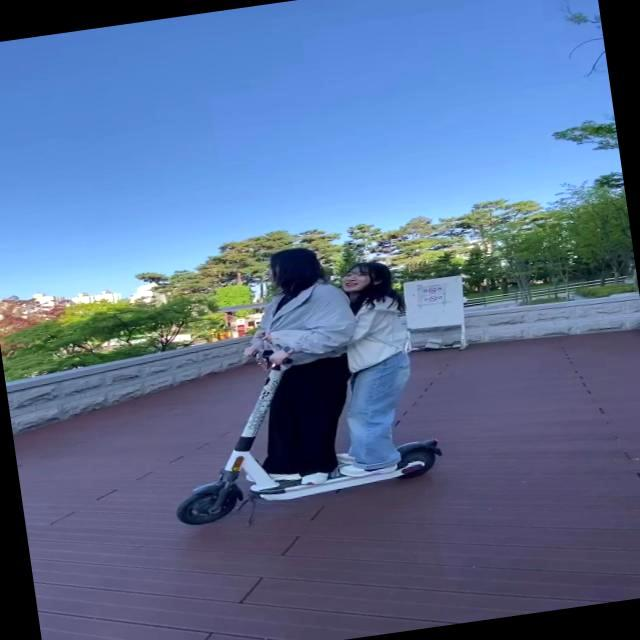bare_head: (260, 246, 324, 289), (337, 263, 388, 294)
human: (240, 237, 338, 482), (330, 255, 409, 474)
kickboard: (167, 434, 446, 542)
